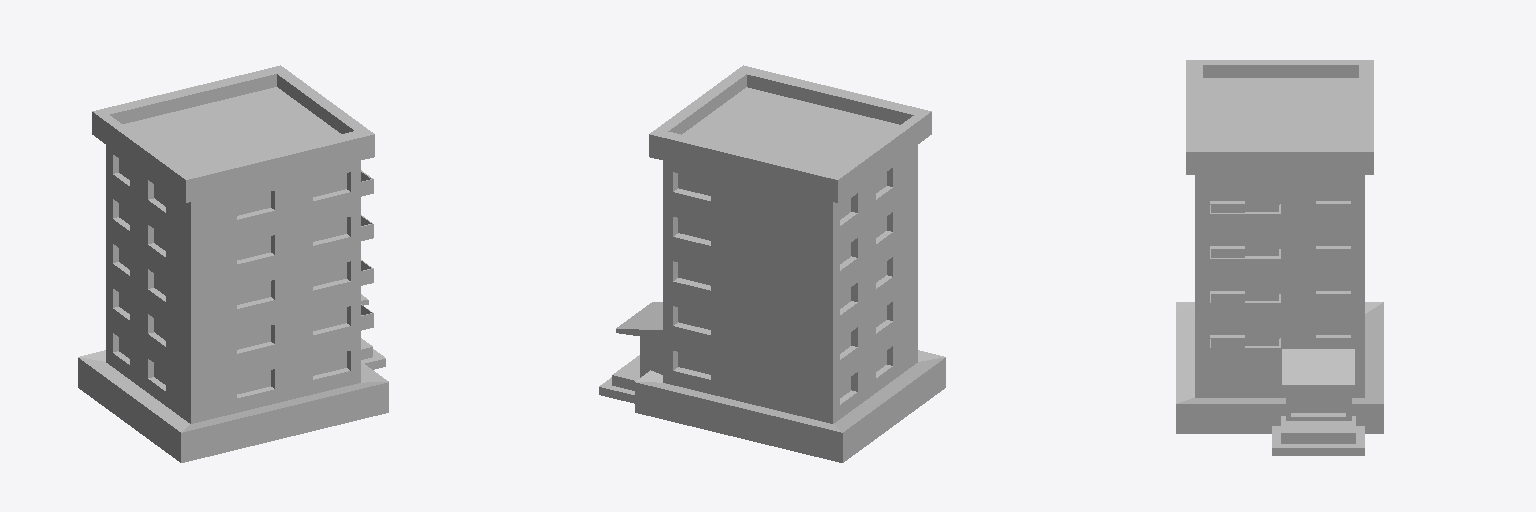
The model's file is building1.obj.
3 views of the same model, side by side, from view 1: azimuth 30°, elevation 25°; view 2: azimuth 150°, elevation 25°; view 3: azimuth 270°, elevation 25° (orthographic).
Parts seen in each view (by area): view 1: ROAD.283; view 2: ROAD.283; view 3: ROAD.283.
Boxes of the visible parts, box(x1,y1,x2,y2) form: ROAD.283: box(78, 65, 388, 462); ROAD.283: box(599, 65, 945, 462); ROAD.283: box(1176, 60, 1383, 455).
Bounding box in the file's own units: 74.84 × 78.36 × 53.1.